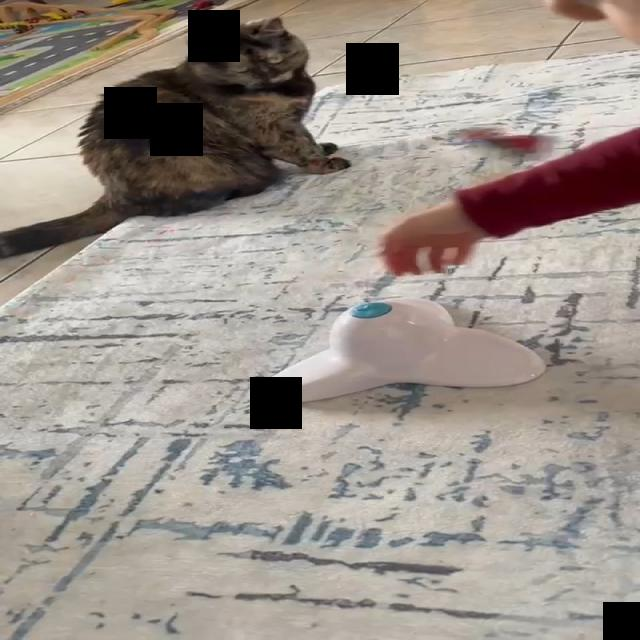authorized: (0, 16, 351, 259)
